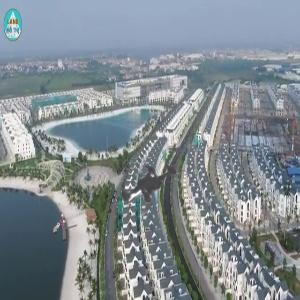drone: (86, 122, 207, 243)
